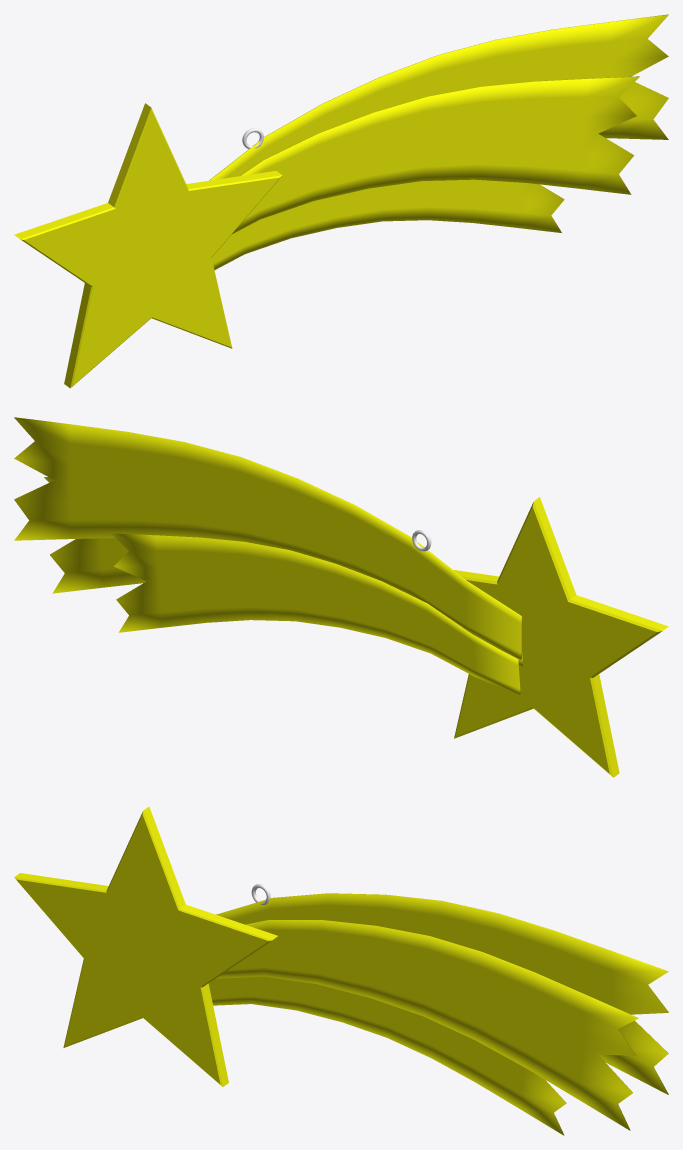
The model's file is star2.glb.
3 views of the same model, one above another, from view 1: azimuth 30°, elevation 25°; view 2: azimuth 150°, elevation 25°; view 3: azimuth 330°, elevation 25° (orthographic).
Parts seen in each view (by area): view 1: Object_7.012; view 2: Object_7.012; view 3: Object_7.012.
Boxes of the visible parts, left/top/right/bottom form: Object_7.012: left=14, top=14, right=668, bottom=388; Object_7.012: left=14, top=417, right=668, bottom=777; Object_7.012: left=14, top=806, right=668, bottom=1135.
Bounding box in the file's own units: 0.2181 × 0.0829 × 0.00657.
